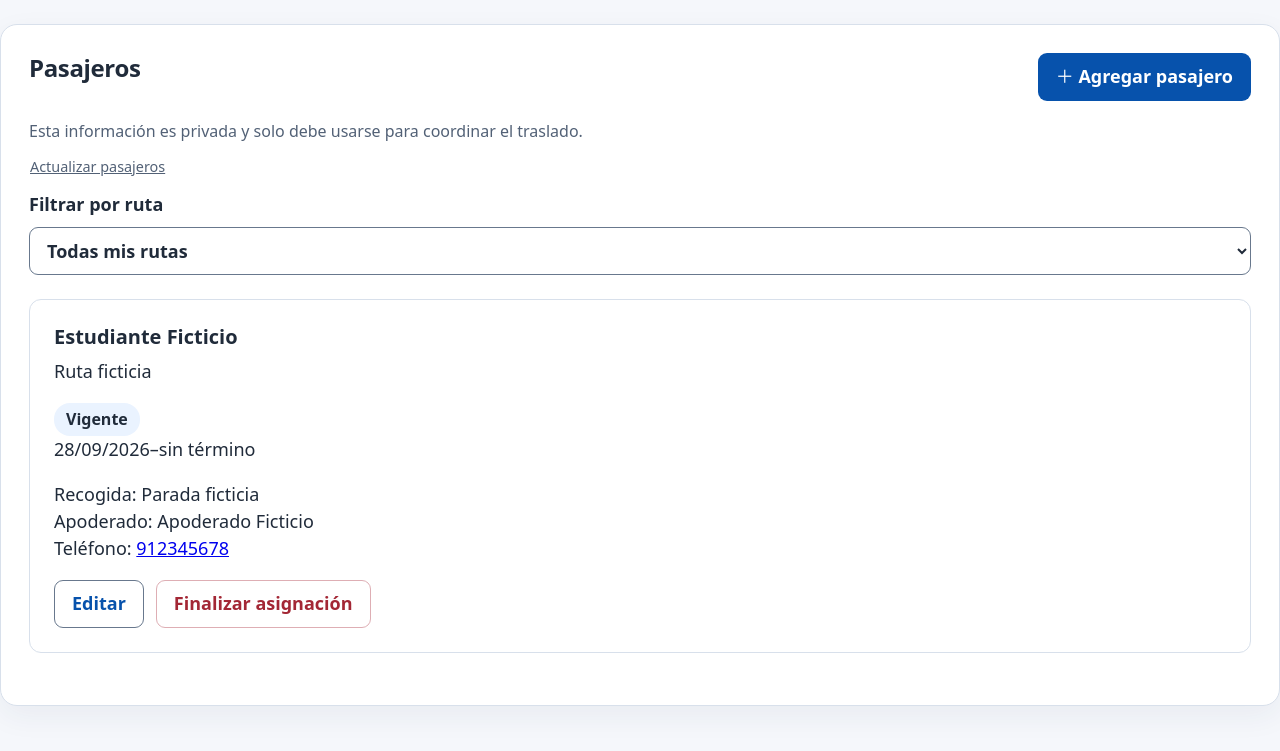
Test: roster required selections produce Spanish feedback and preserve the draft without writing
The image size is (1280, 751).
Click the button "＋ Agregar pasajero": (1144, 77) [1038, 53, 1251, 101]
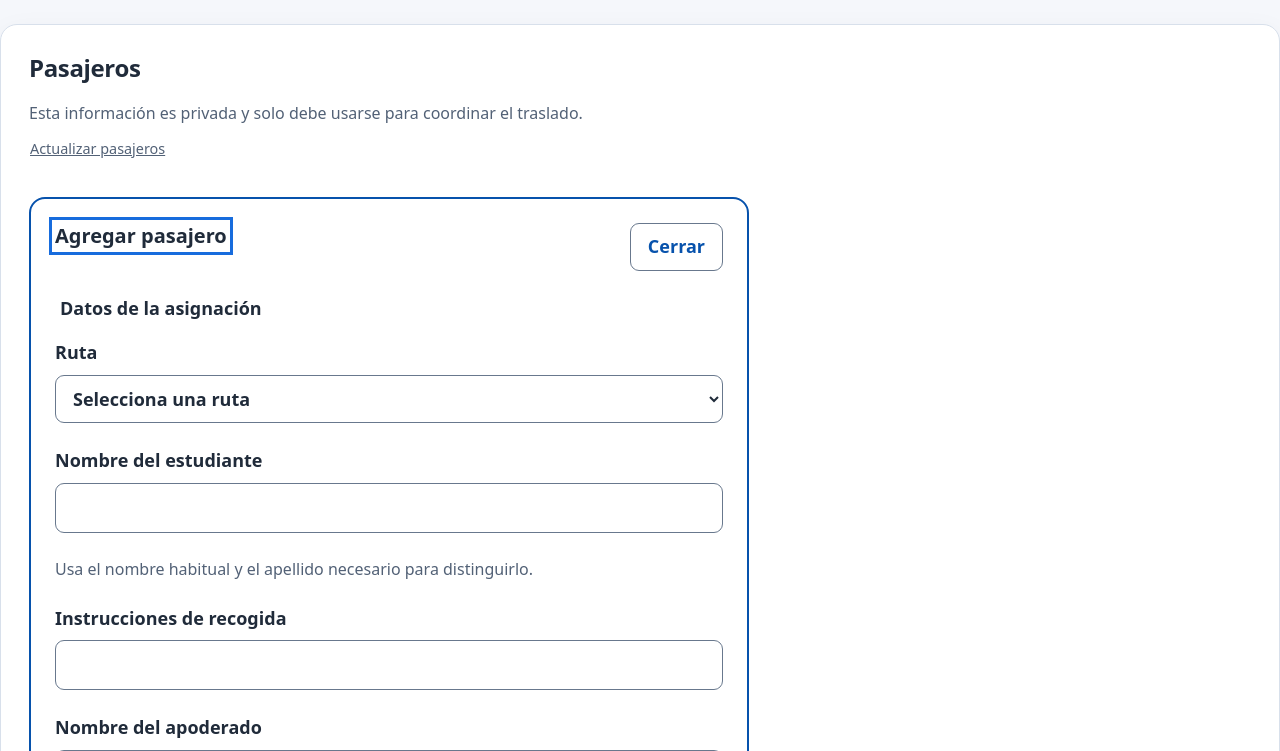
In the field labelled "Nombre del estudiante": (389, 508) [55, 483, 723, 533], type "Estudiante ficticio"
(page scrolled)
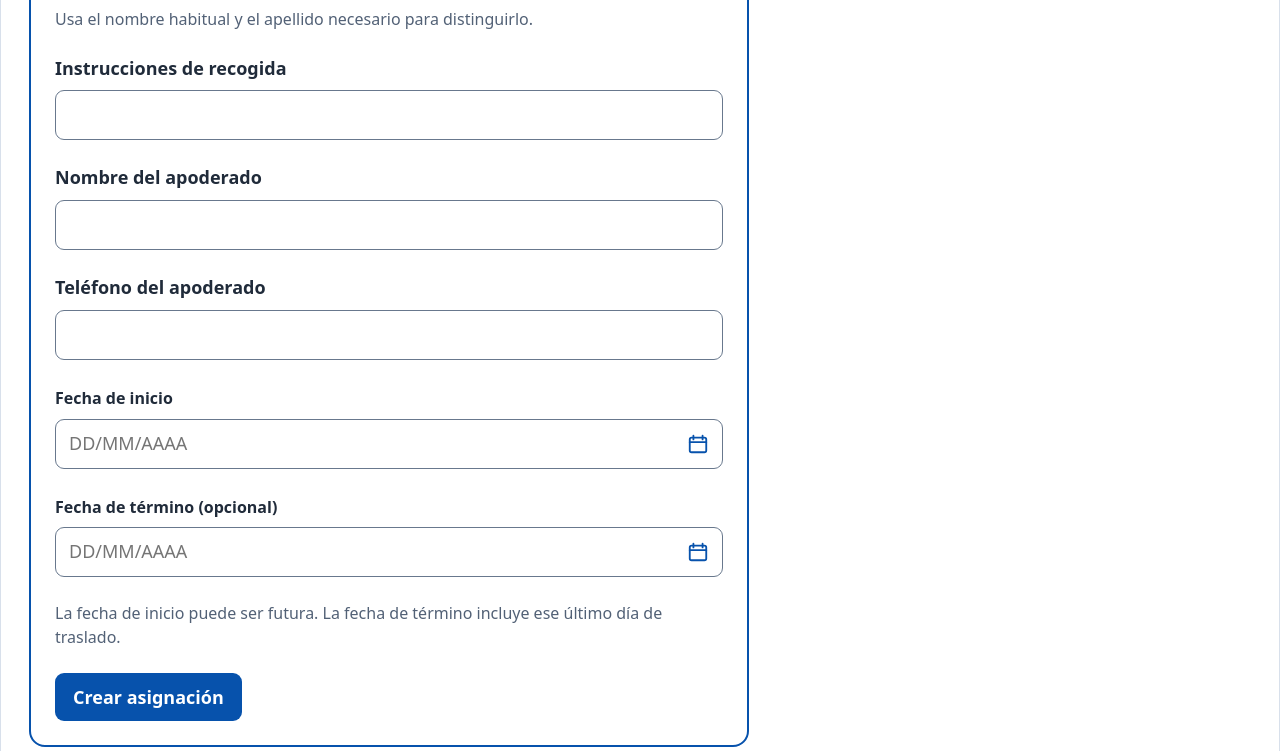
Click the button "Crear asignación": (148, 697) [55, 673, 242, 721]
(page scrolled)
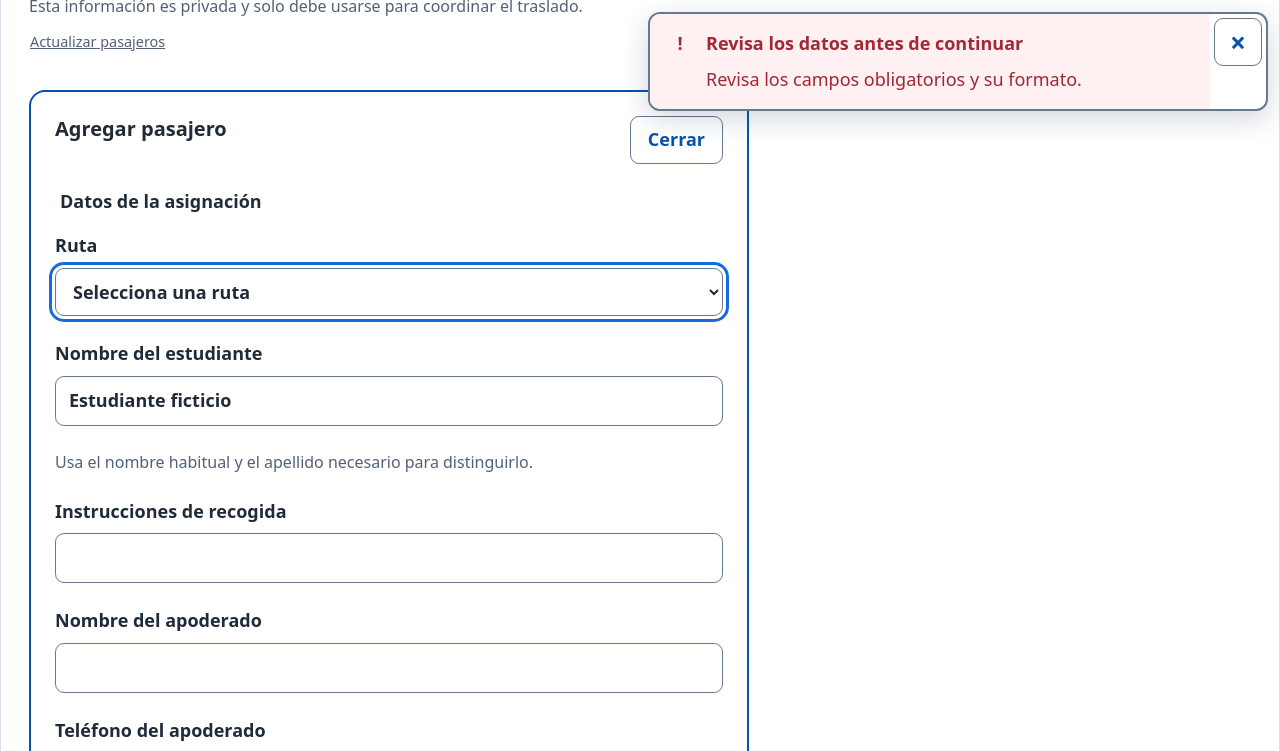
Check: the message shows "Revisa los campos obligatorios y su formato.", box [706, 67, 1082, 91]
